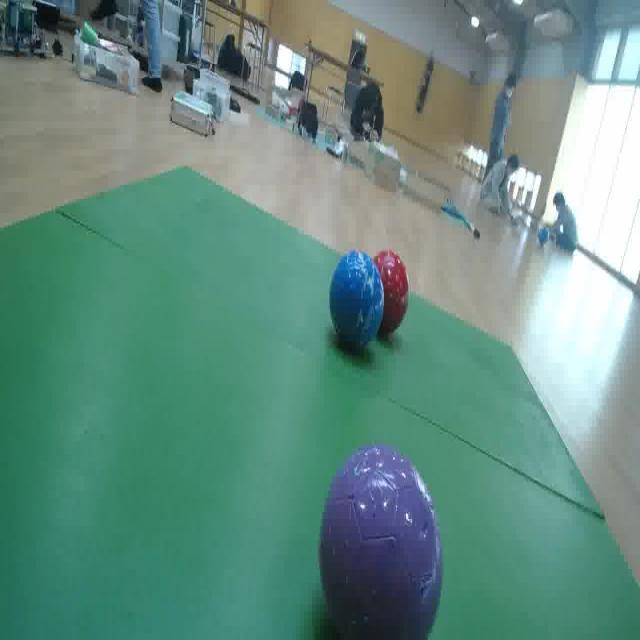blue_ball: (331, 250, 385, 350)
purple_ball: (319, 446, 443, 640)
red_ball: (368, 250, 410, 338)
